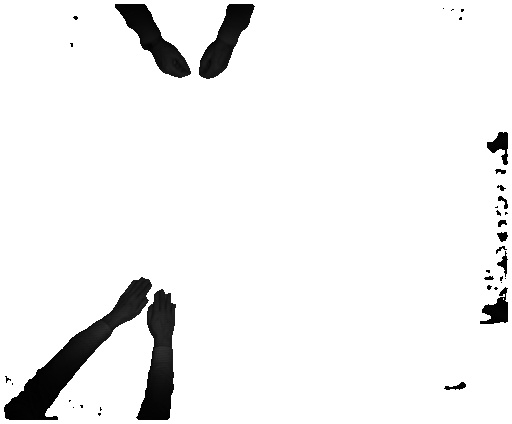hand: (106, 274, 154, 322), (150, 41, 194, 79), (198, 44, 239, 79), (148, 290, 175, 340)
